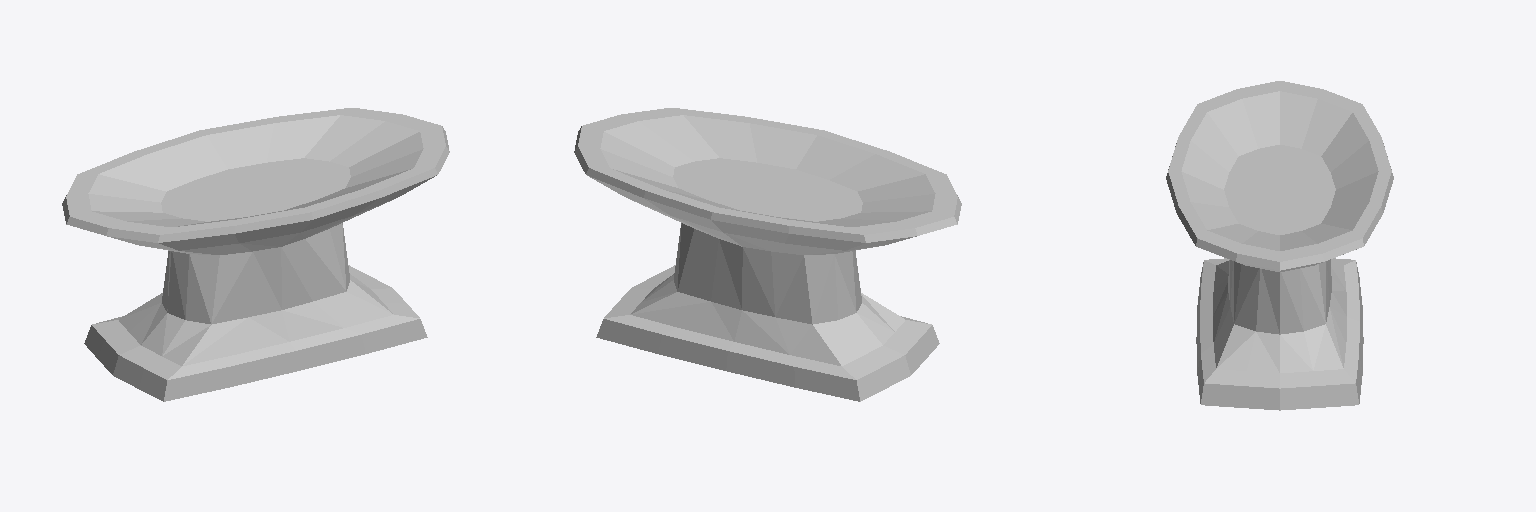
Rendered from Altar.obj.
The picture shows the model from 3 angles: view 1: azimuth 30°, elevation 25°; view 2: azimuth 150°, elevation 25°; view 3: azimuth 270°, elevation 25°; orthographic projection.
Parts seen in each view (by area): view 1: Altar; view 2: Altar; view 3: Altar.
Part boxes in pixels (bbox=[...]): Altar: bbox=[62, 108, 449, 401]; Altar: bbox=[574, 108, 961, 401]; Altar: bbox=[1166, 81, 1393, 410].
Size of the model in its own units: 310 by 132 by 161.